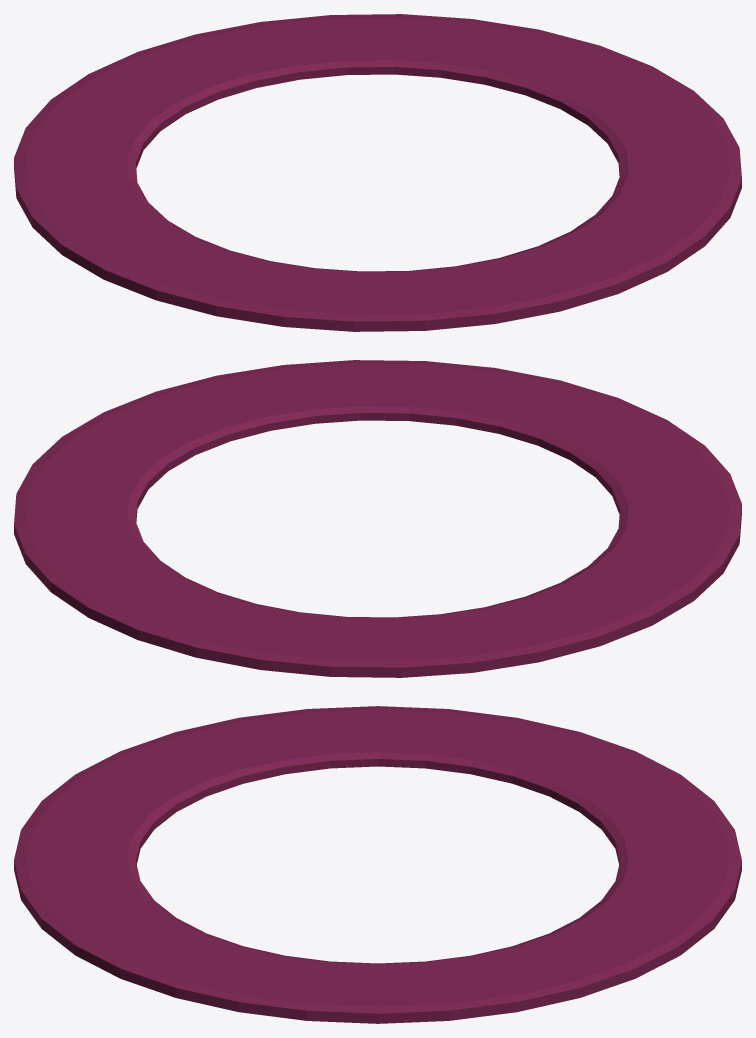
Rendered from new_ring_2.fbx.
3 renders of one model, top to bottom at view 1: azimuth 30°, elevation 25°; view 2: azimuth 150°, elevation 25°; view 3: azimuth 270°, elevation 25°, orthographic.
Parts seen in each view (by area): view 1: New Ring 2; view 2: New Ring 2; view 3: New Ring 2.
Part boxes in pixels (bbox=[...]): New Ring 2: bbox=[14, 14, 741, 331]; New Ring 2: bbox=[14, 360, 741, 677]; New Ring 2: bbox=[14, 706, 741, 1023].
Bounding box in the file's own units: 156 × 3.2 × 156.
